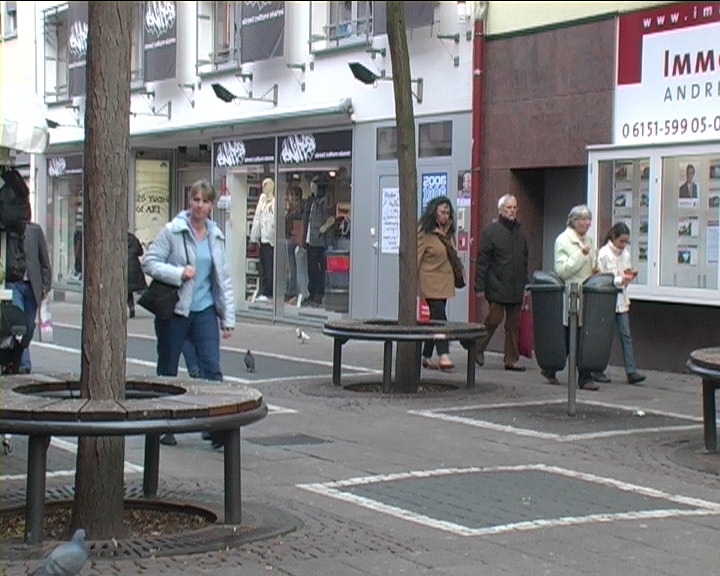deflection: (174, 186, 231, 255)
